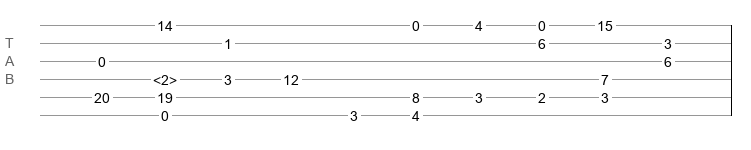0: (98, 54, 106, 64), (161, 108, 169, 118), (412, 18, 420, 28), (538, 18, 546, 28)
1: (224, 36, 232, 46)
12: (283, 72, 299, 82)
14: (157, 18, 173, 28)
15: (597, 18, 613, 28)
19: (157, 90, 173, 100)
2: (538, 90, 546, 100)
20: (94, 90, 110, 100)
3: (224, 72, 232, 82), (350, 108, 358, 118), (475, 90, 483, 100), (601, 90, 609, 100), (664, 36, 672, 46)
4: (412, 108, 420, 118), (475, 18, 483, 28)
6: (538, 36, 546, 46), (664, 54, 672, 64)
7: (601, 72, 609, 82)
8: (412, 90, 420, 100)
harmonic: (153, 72, 177, 82)
